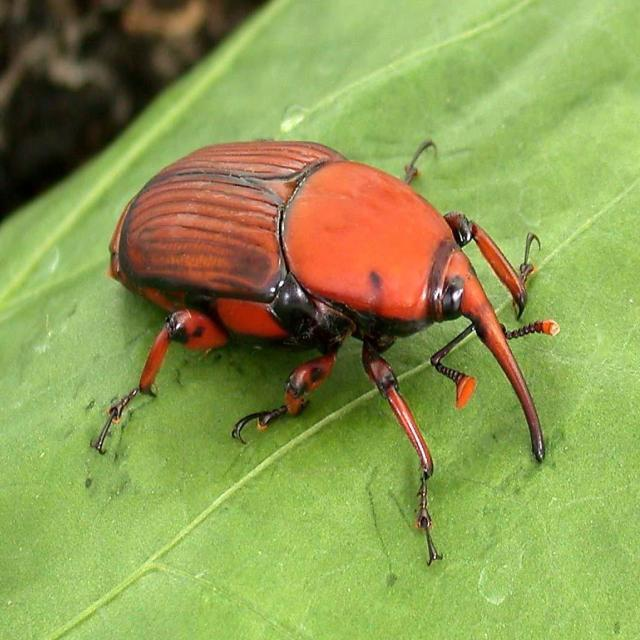Red-palm-weevil: (95, 116, 570, 593)
